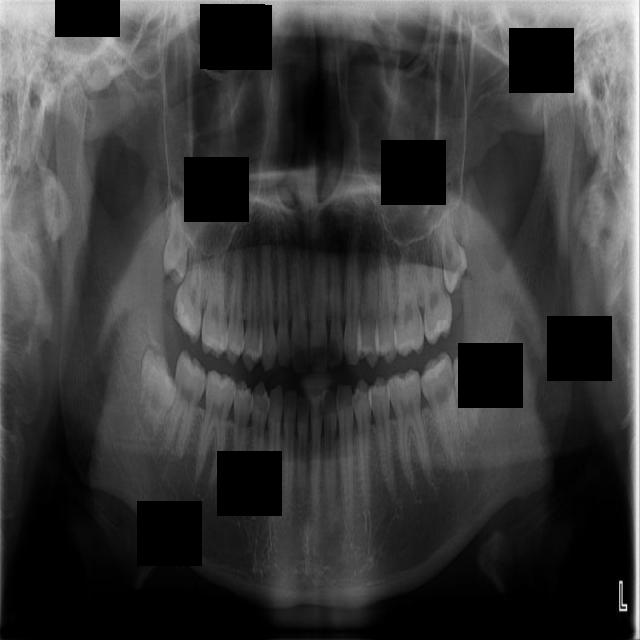3M ESPE Implant: (161, 192, 188, 285)
73: (602, 583, 612, 596)
BioHorizons Implant: (416, 233, 455, 346)
BioLife Implant: (436, 204, 470, 295)
Biomet 3i Implant: (445, 350, 487, 446)
Blue Sky Bio Implant: (416, 349, 466, 460)
Caries: (172, 223, 206, 344)
Implant: (161, 348, 212, 459)
Keystone Dental Implant: (135, 347, 180, 432)
